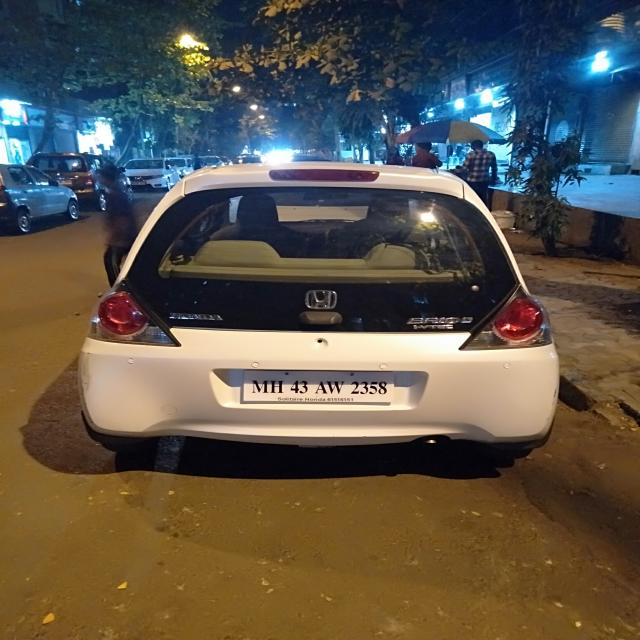Number-Plate: (244, 373, 397, 403)
